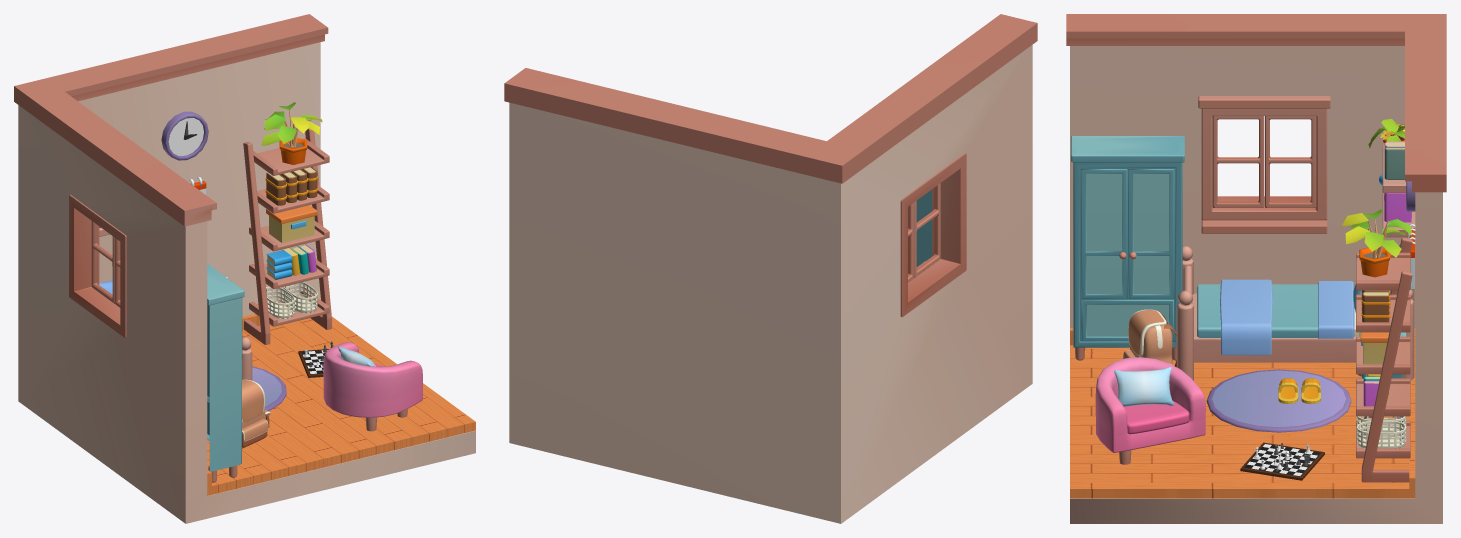
The model's file is bedroom.fbx.
The picture shows the model from 3 angles, left to right: view 1: azimuth 30°, elevation 25°; view 2: azimuth 150°, elevation 25°; view 3: azimuth 270°, elevation 25°; orthographic projection. The views are drawn at different scales.
Visible parts, largest first — view 1: bedroom_wall, bedroom_wall_upper, floor, shelf, wardrobe, polySurface20, window, plant, clock, book6, backpack, box (+5 smaller); view 2: bedroom_wall, bedroom_wall_upper, window, wardrobe; view 3: bedroom_wall, bedroom_wall_upper, floor, wardrobe, pillow1, window, shelf, polySurface20, carpet, plant, chess_board, backpack (+9 smaller).
Boxes of the visible parts, x1,y1,x2,y2 form: bedroom_wall: (18,42,475,523); bedroom_wall_upper: (14,14,328,237); floor: (207,298,475,495); shelf: (243,128,331,344); wardrobe: (207,264,244,482); polySurface20: (323,342,422,431); window: (69,195,126,337); plant: (261,102,322,164); clock: (161,111,208,160); book6: (265,167,318,205); backpack: (242,379,270,448); box: (266,205,317,242); bedroom_wall: (509,45,1032,523); bedroom_wall_upper: (504,14,1037,201); window: (900,153,966,317); wardrobe: (916,189,931,266); bedroom_wall: (1070,46,1442,523); bedroom_wall_upper: (1066,14,1446,192); floor: (1070,328,1415,498); wardrobe: (1071,136,1184,360); pillow1: (1176,244,1414,380); window: (1198,96,1330,233); shelf: (1356,237,1412,482); polySurface20: (1095,357,1205,464); carpet: (1206,369,1351,432); plant: (1342,209,1412,277); chess_board: (1240,442,1324,480); backpack: (1123,309,1176,366).
Size of the model in its own units: 22 by 22.4 by 22.
